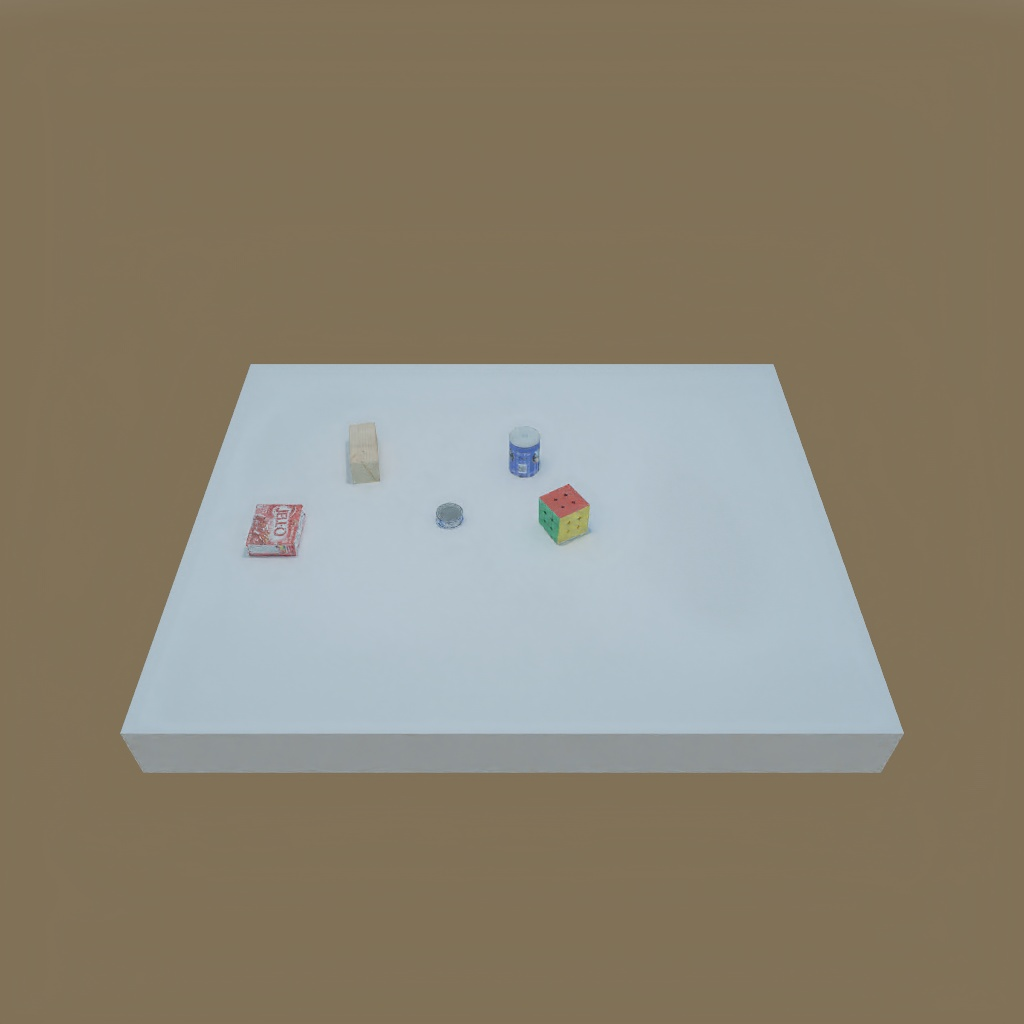gelatin_box: (248, 499, 306, 559)
master_chef_can: (507, 425, 545, 478)
rubiks_cube: (535, 482, 597, 545)
wood_block: (341, 420, 387, 486)
